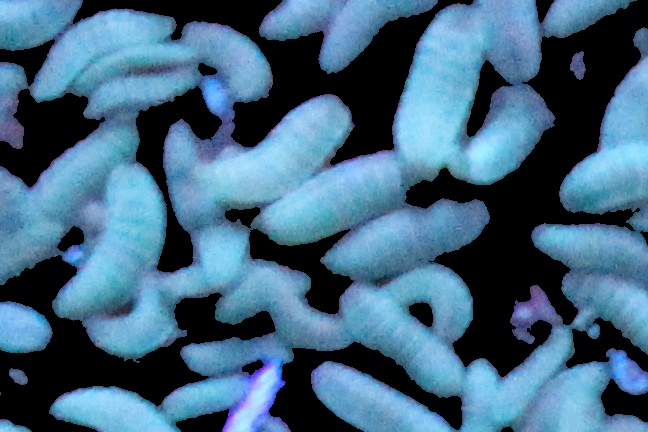larvae: (194, 93, 353, 204), (54, 163, 167, 319), (392, 1, 483, 185), (320, 195, 490, 283), (252, 150, 403, 245), (342, 281, 463, 393), (29, 9, 176, 100), (33, 121, 140, 215), (313, 361, 451, 432), (318, 1, 438, 72), (83, 271, 176, 360), (178, 17, 272, 103), (455, 98, 541, 187), (529, 220, 648, 280), (494, 328, 571, 419), (71, 40, 192, 97), (562, 268, 648, 348), (387, 265, 474, 344), (558, 139, 648, 215), (157, 122, 223, 224), (81, 64, 199, 121), (49, 385, 177, 432), (217, 264, 311, 326), (481, 1, 546, 81), (1, 213, 66, 287), (273, 293, 351, 351), (187, 222, 251, 288), (551, 359, 610, 430), (1, 1, 82, 51), (157, 375, 251, 417), (178, 337, 294, 371), (259, 1, 345, 39), (457, 360, 499, 432)
